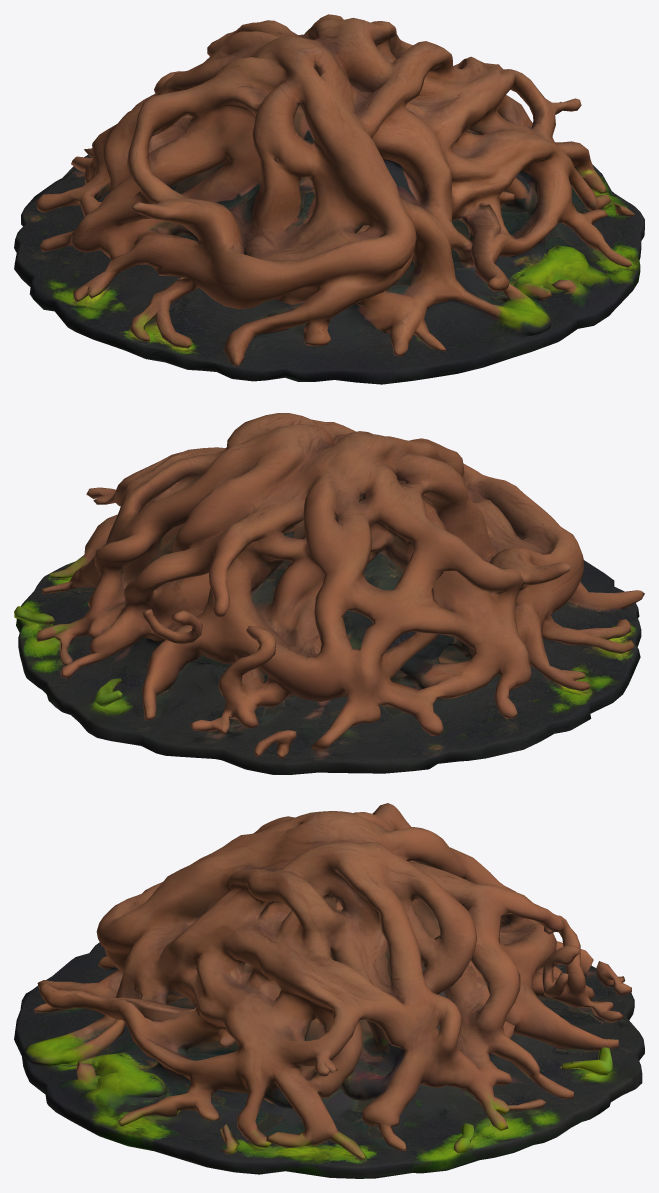
File: forest_root_tangle.glb
3 renders of one model, top to bottom at view 1: azimuth 30°, elevation 25°; view 2: azimuth 150°, elevation 25°; view 3: azimuth 270°, elevation 25°, orthographic.
Bounding box in the file's own units: 1.9 × 0.7123 × 1.88.
1 material, 1 textured.
